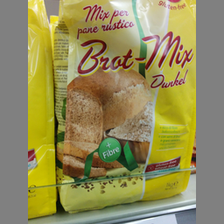flour: (52, 1, 195, 213)
